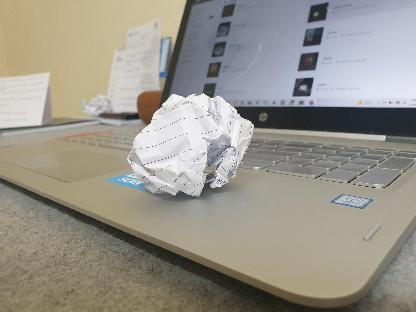Paper: (124, 85, 262, 211)
